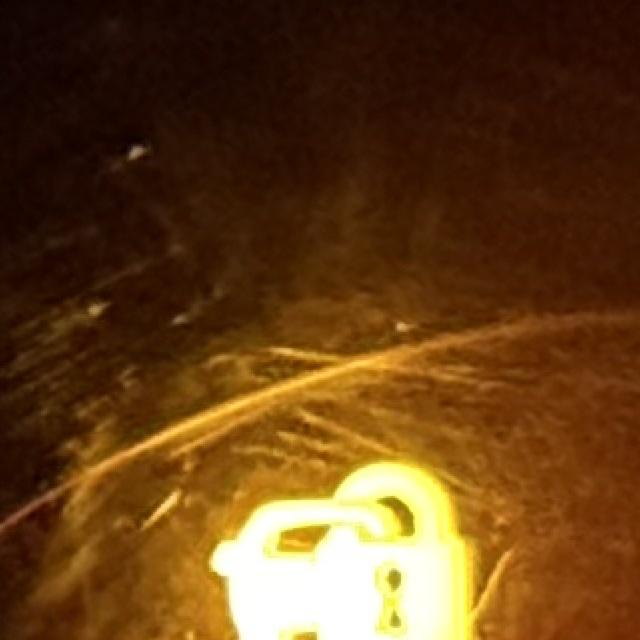Car SecurityWarning: (209, 460, 475, 640)
